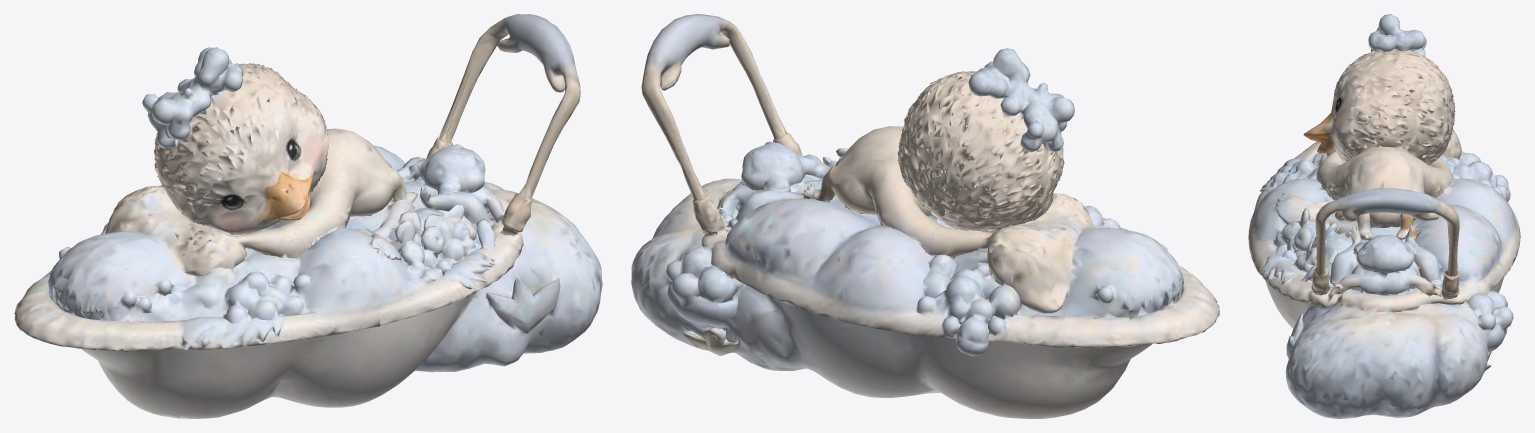
The picture shows the model from 3 angles, left to right: view 1: azimuth 30°, elevation 25°; view 2: azimuth 150°, elevation 25°; view 3: azimuth 270°, elevation 25°; orthographic projection. The views are drawn at different scales.
Bounding box in the file's own units: 1.9 × 1.13 × 1.01.
1 material, 1 textured.
